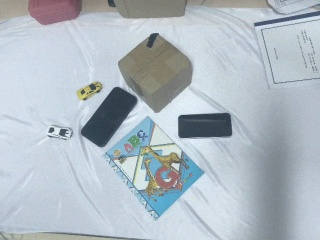book: (100, 113, 209, 224)
box: (117, 31, 193, 113), (108, 1, 189, 20)
phone: (79, 84, 140, 149), (178, 110, 233, 142)
toy_car: (76, 81, 103, 101), (46, 124, 73, 140)
